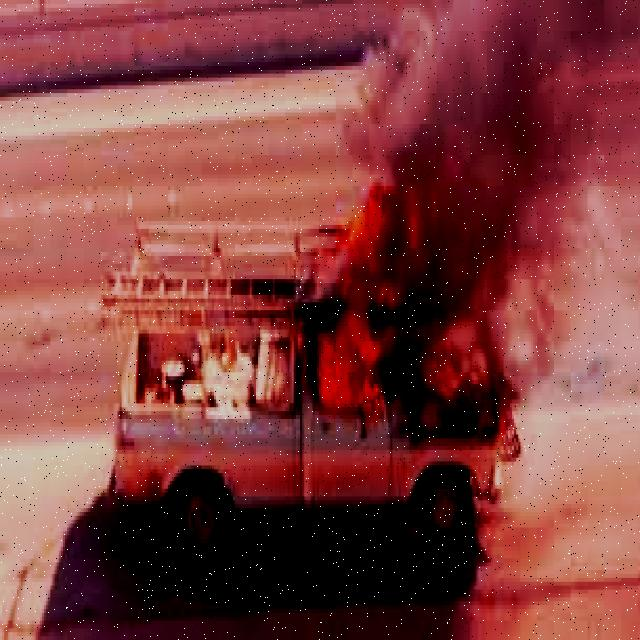api: (312, 172, 476, 420)
